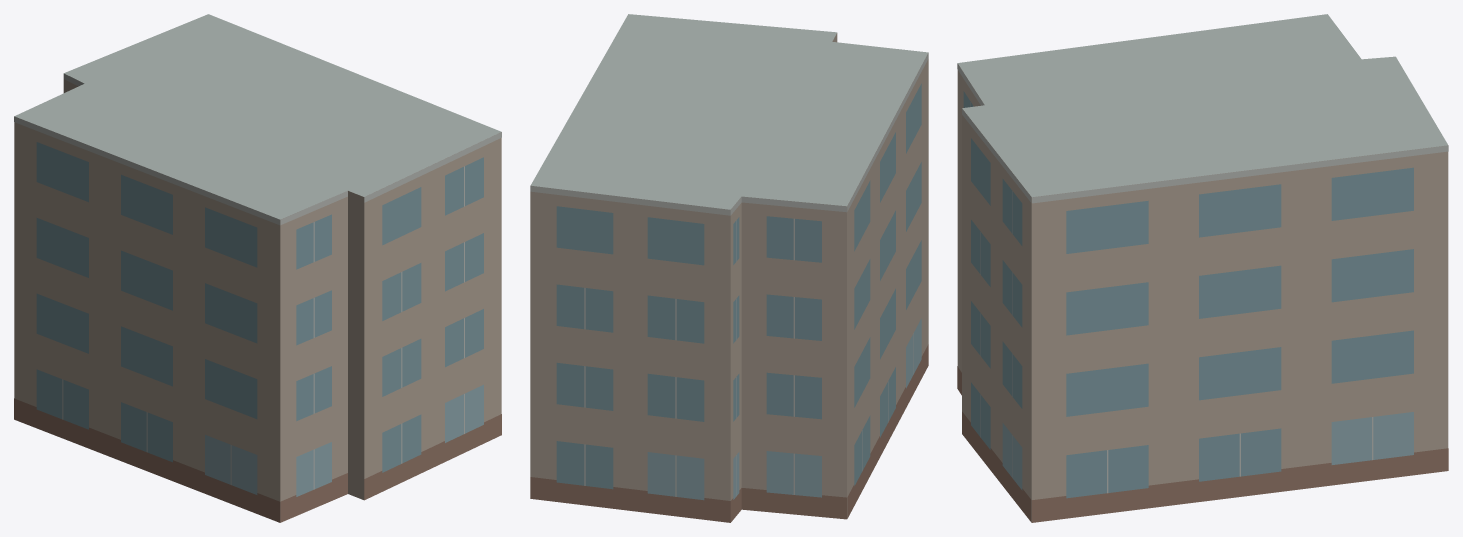
File: survey-upis-32626164.glb
The picture shows the model from 3 angles, left to right: view 1: azimuth 30°, elevation 25°; view 2: azimuth 150°, elevation 25°; view 3: azimuth 270°, elevation 25°; orthographic projection. The views are drawn at different scales.
Visible parts, largest first — view 1: survey-upis-32626164.tmp; view 2: survey-upis-32626164.tmp; view 3: survey-upis-32626164.tmp.
Boxes of the visible parts, bbox=[...] form: survey-upis-32626164.tmp: bbox=[14, 14, 501, 522]; survey-upis-32626164.tmp: bbox=[530, 14, 928, 522]; survey-upis-32626164.tmp: bbox=[957, 14, 1448, 522].
Size of the model in its own units: 15.46 by 12.8 by 17.5.
